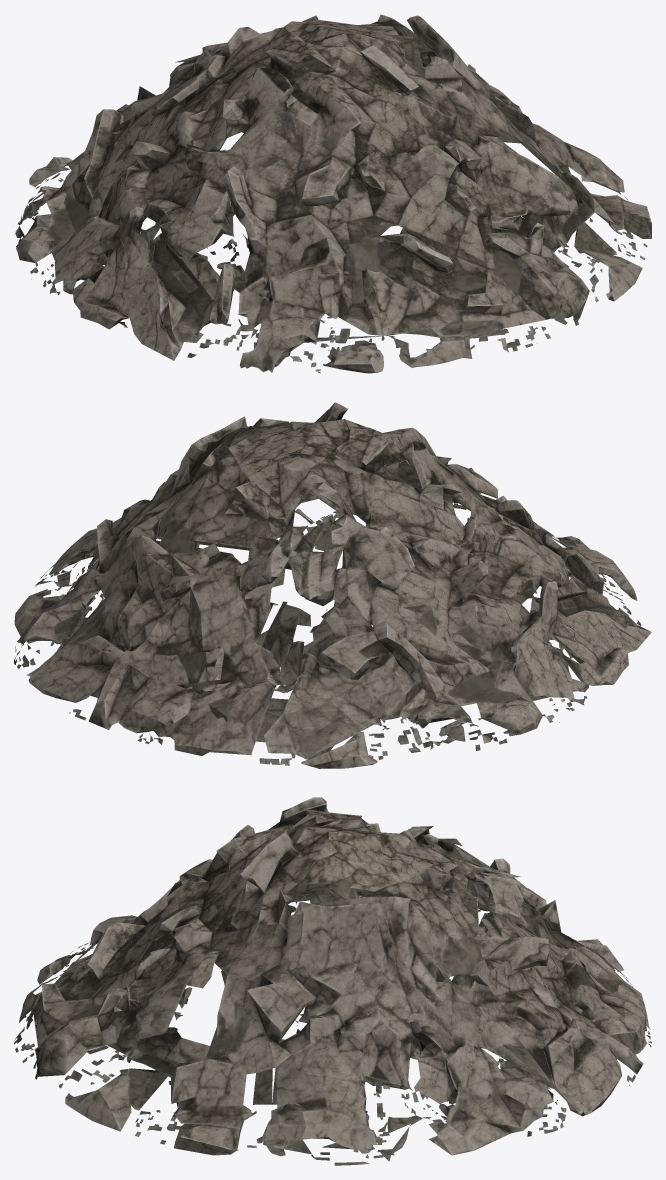
Rendered from ok-ruin-rubble-meshy.glb.
The picture shows the model from 3 angles, top to bottom: view 1: azimuth 30°, elevation 25°; view 2: azimuth 150°, elevation 25°; view 3: azimuth 270°, elevation 25°; orthographic projection.
Size of the model in its own units: 1.86 by 0.6883 by 1.89.
Materials: 1 (1 with a texture image).
